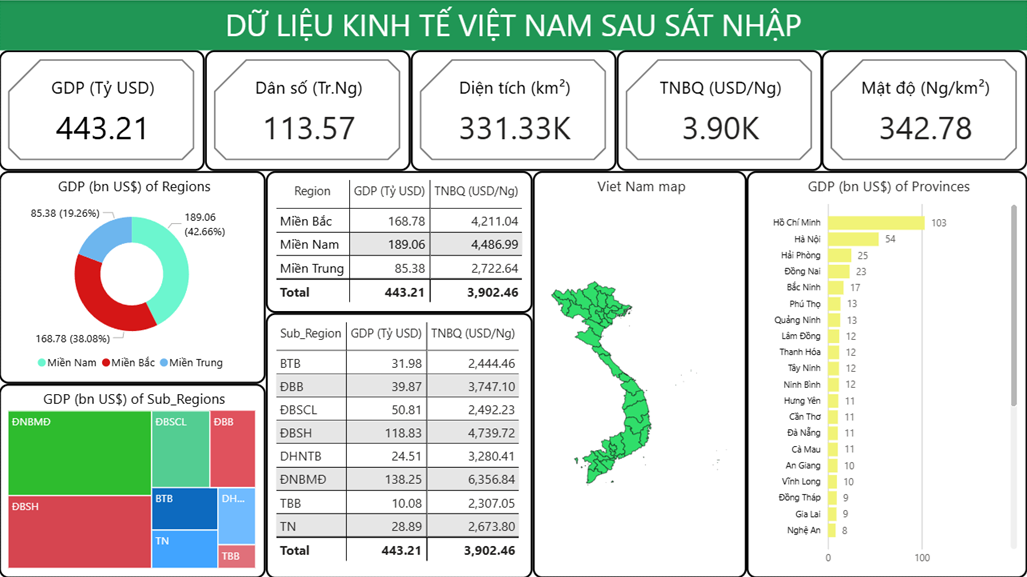

What the dashboard file says about the page in this screenshot:
{"tool":"powerbi","page":{"name":"Page 1","canvas":[1280,720],"ordinal":0},"visuals":[{"type":"cardVisual","fields":{"Data":["Map_34_Tinh.GDP (Tỷ USD)"]},"box":[0,62.6,256,150],"z":0},{"type":"textbox","box":[0,0,1280.3,62.6],"z":1000},{"type":"cardVisual","fields":{"Data":["Map_34_Tinh.TNBQ (USD/Ng)"]},"box":[769.1,62.6,256.4,150],"z":2000},{"type":"cardVisual","fields":{"Data":["Map_34_Tinh.Dân số (Tr.Ng)"]},"box":[256.4,62.6,256.4,150],"z":3000},{"type":"cardVisual","fields":{"Data":["Map_34_Tinh.Mật độ (Ng/km²)"]},"box":[1023.9,62.6,256.4,150],"z":4000},{"type":"cardVisual","fields":{"Data":["Sum(Provinces of Viet Nam.Diện tích (km2))"]},"box":[512.7,62.6,256.4,150],"z":5000},{"type":"donutChart","title":"GDP (bn US$) of Regions","fields":{"Category":["Regions of Vietnam.Region"],"Y":["Map_34_Tinh.GDP (Tỷ USD)"]},"box":[0,212.7,332.1,265],"z":6000},{"type":"treemap","title":"GDP (bn US$) of Sub_Regions","fields":{"Group":["Regions of Vietnam.Sub_Region"],"Values":["Map_34_Tinh.GDP (Tỷ USD)"]},"box":[0,477.7,332.1,242.6],"z":7000},{"type":"tableEx","fields":{"Values":["Regions of Vietnam.Region","Map_34_Tinh.GDP (Tỷ USD)","Map_34_Tinh.TNBQ (USD/Ng)"]},"box":[332.1,212.7,332.1,176.6],"z":8000},{"type":"tableEx","fields":{"Values":["Regions of Vietnam.Sub_Region","Map_34_Tinh.GDP (Tỷ USD)","Map_34_Tinh.TNBQ (USD/Ng)"]},"box":[332.1,389.4,332.1,330.9],"z":9000},{"type":"shapeMap","title":"Viet Nam map","fields":{"Value":["select"],"Category":["Map_34_Tinh.Map_34"]},"box":[664.3,212.7,266.2,507.5],"z":10000},{"type":"barChart","title":"GDP (bn US$) of Provinces","fields":{"Category":["Regions of Vietnam.Provinces"],"Y":["Map_34_Tinh.GDP (Tỷ USD)"]},"box":[930.5,212.7,349.6,507.5],"z":11000}]}

Visuals, with their boxes in screenshot pixels (x1, y1, x2, y2), scaled from the page's 1280x720 canvas onto the 1027x577 screenshot:
cardVisual - Map_34_Tinh.GDP (Tỷ USD): 0, 50, 205, 170
textbox: 0, 0, 1026, 50
cardVisual - Map_34_Tinh.TNBQ (USD/Ng): 617, 50, 823, 170
cardVisual - Map_34_Tinh.Dân số (Tr.Ng): 206, 50, 411, 170
cardVisual - Map_34_Tinh.Mật độ (Ng/km²): 822, 50, 1026, 170
cardVisual - Sum(Provinces of Viet Nam.Diện tích (km2)): 411, 50, 617, 170
"GDP (bn US$) of Regions" donutChart: 0, 170, 266, 383
"GDP (bn US$) of Sub_Regions" treemap: 0, 383, 266, 576
tableEx - Regions of Vietnam.Region x Map_34_Tinh.GDP (Tỷ USD): 266, 170, 533, 312
tableEx - Regions of Vietnam.Sub_Region x Map_34_Tinh.GDP (Tỷ USD): 266, 312, 533, 576
"Viet Nam map" shapeMap: 533, 170, 747, 576
"GDP (bn US$) of Provinces" barChart: 747, 170, 1026, 576
